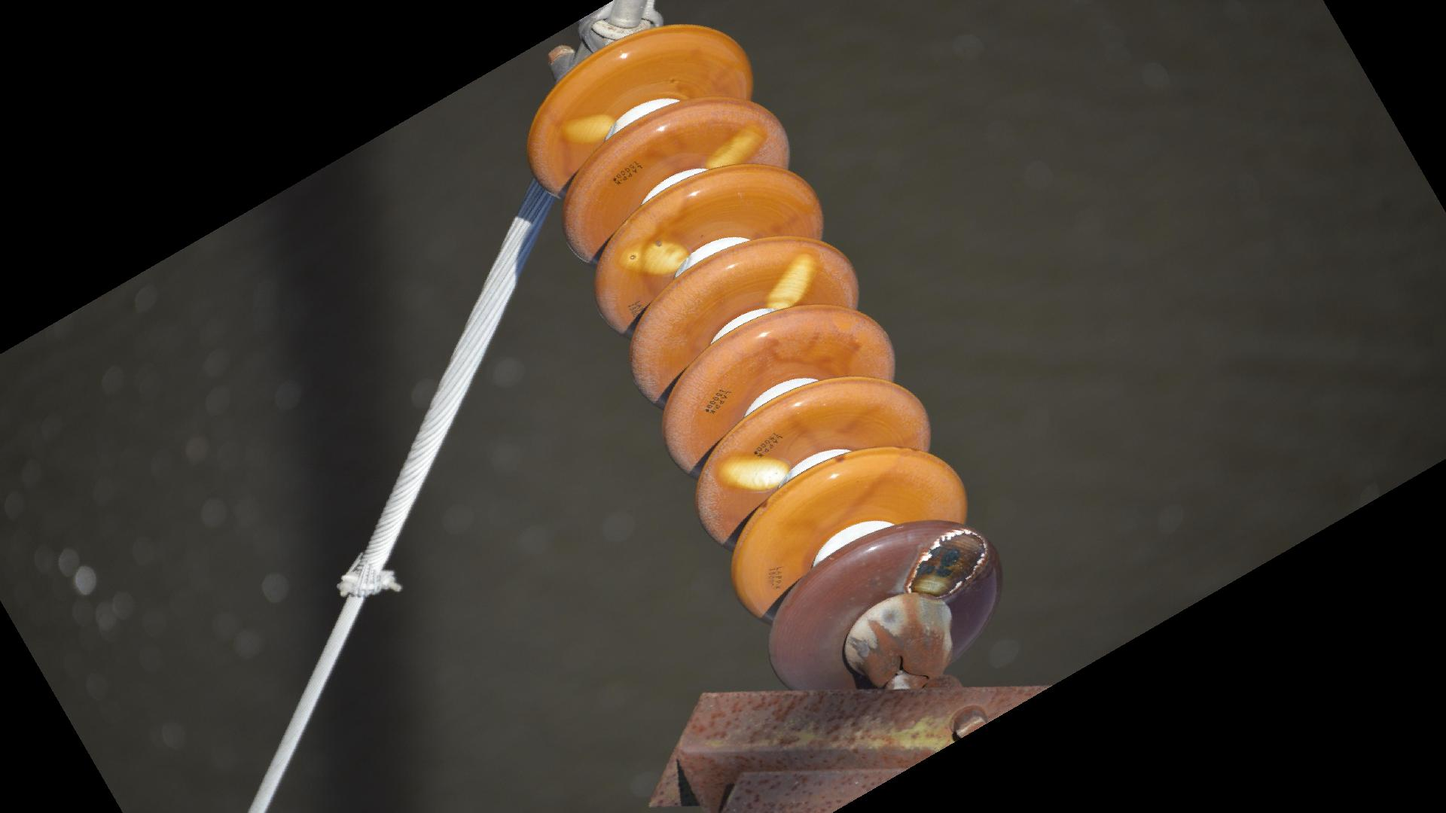insulator: (518, 17, 1009, 693)
insulator_flashover: (903, 528, 991, 602), (762, 250, 819, 312), (700, 122, 768, 172), (712, 453, 792, 495), (616, 239, 689, 281), (555, 110, 615, 148)
